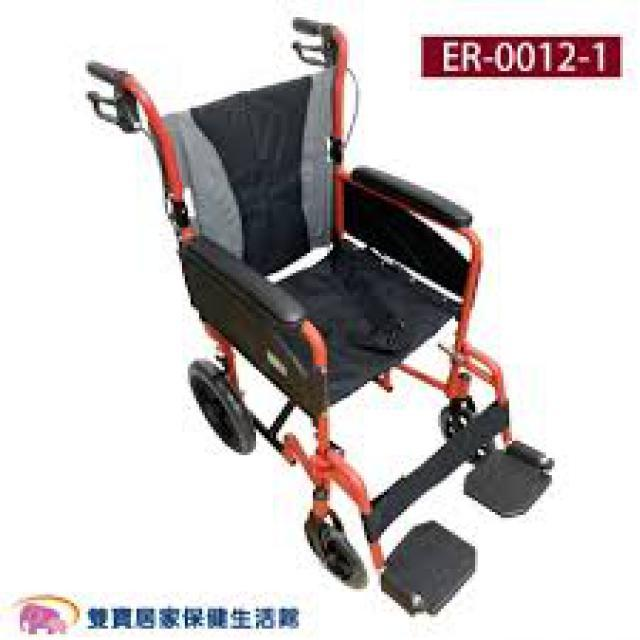wheelchair: (66, 11, 554, 612)
